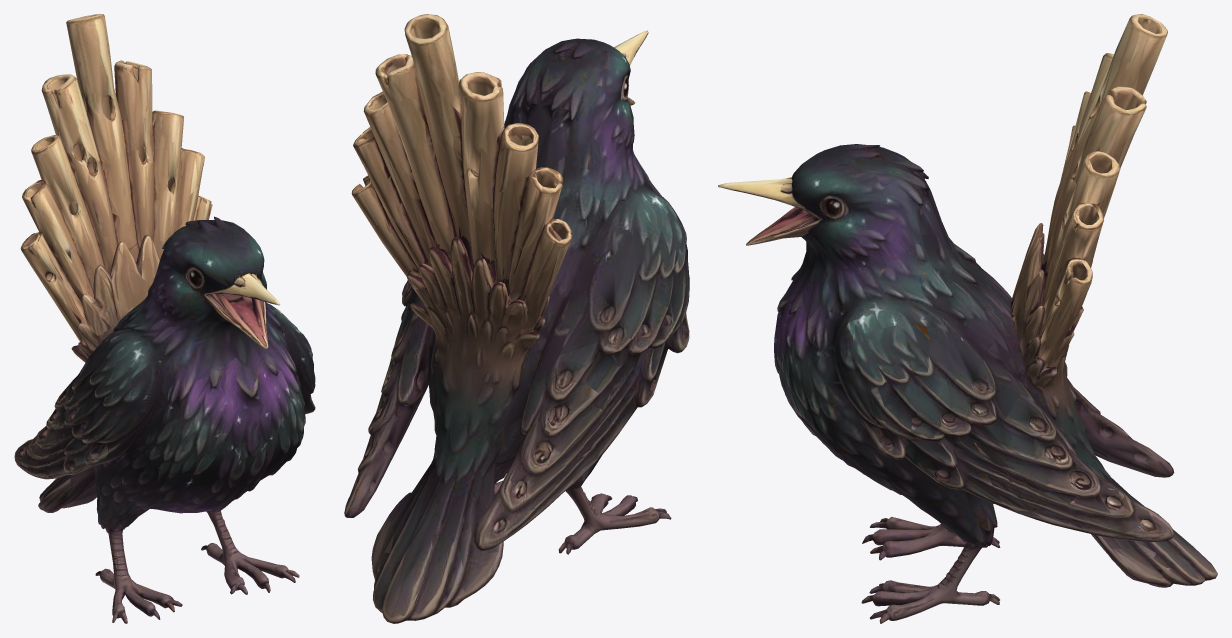
Rendered from murmurling.glb.
3 renders of one model, left to right at view 1: azimuth 30°, elevation 25°; view 2: azimuth 150°, elevation 25°; view 3: azimuth 270°, elevation 25°, orthographic. The views are drawn at different scales.
Visible parts, largest first — view 1: Mesh_0; view 2: Mesh_0; view 3: Mesh_0.
Part boxes in pixels (x1,y1,x2,y2): Mesh_0: (14, 14, 315, 623); Mesh_0: (344, 14, 689, 623); Mesh_0: (718, 14, 1217, 623).
Bounding box in the file's own units: 0.8874 × 1.9 × 1.54.
1 material, 1 textured.
